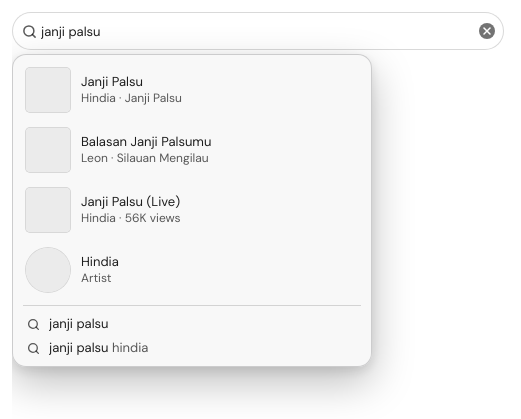
Test: SearchField › opens Liquid Glass TrackMenu on right-click of a song suggestion row
The width and height of the screenshot is (521, 419).
Right-click the option "Janji Palsu Hindia · Janji Palsu" at (103,90), box [25,67,182,113]
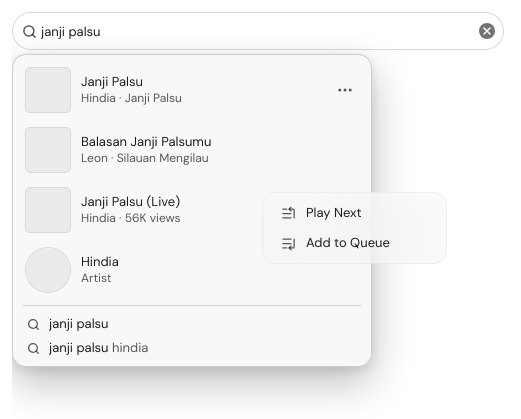
Expected: the menu is shown, [262,192,447,264]
